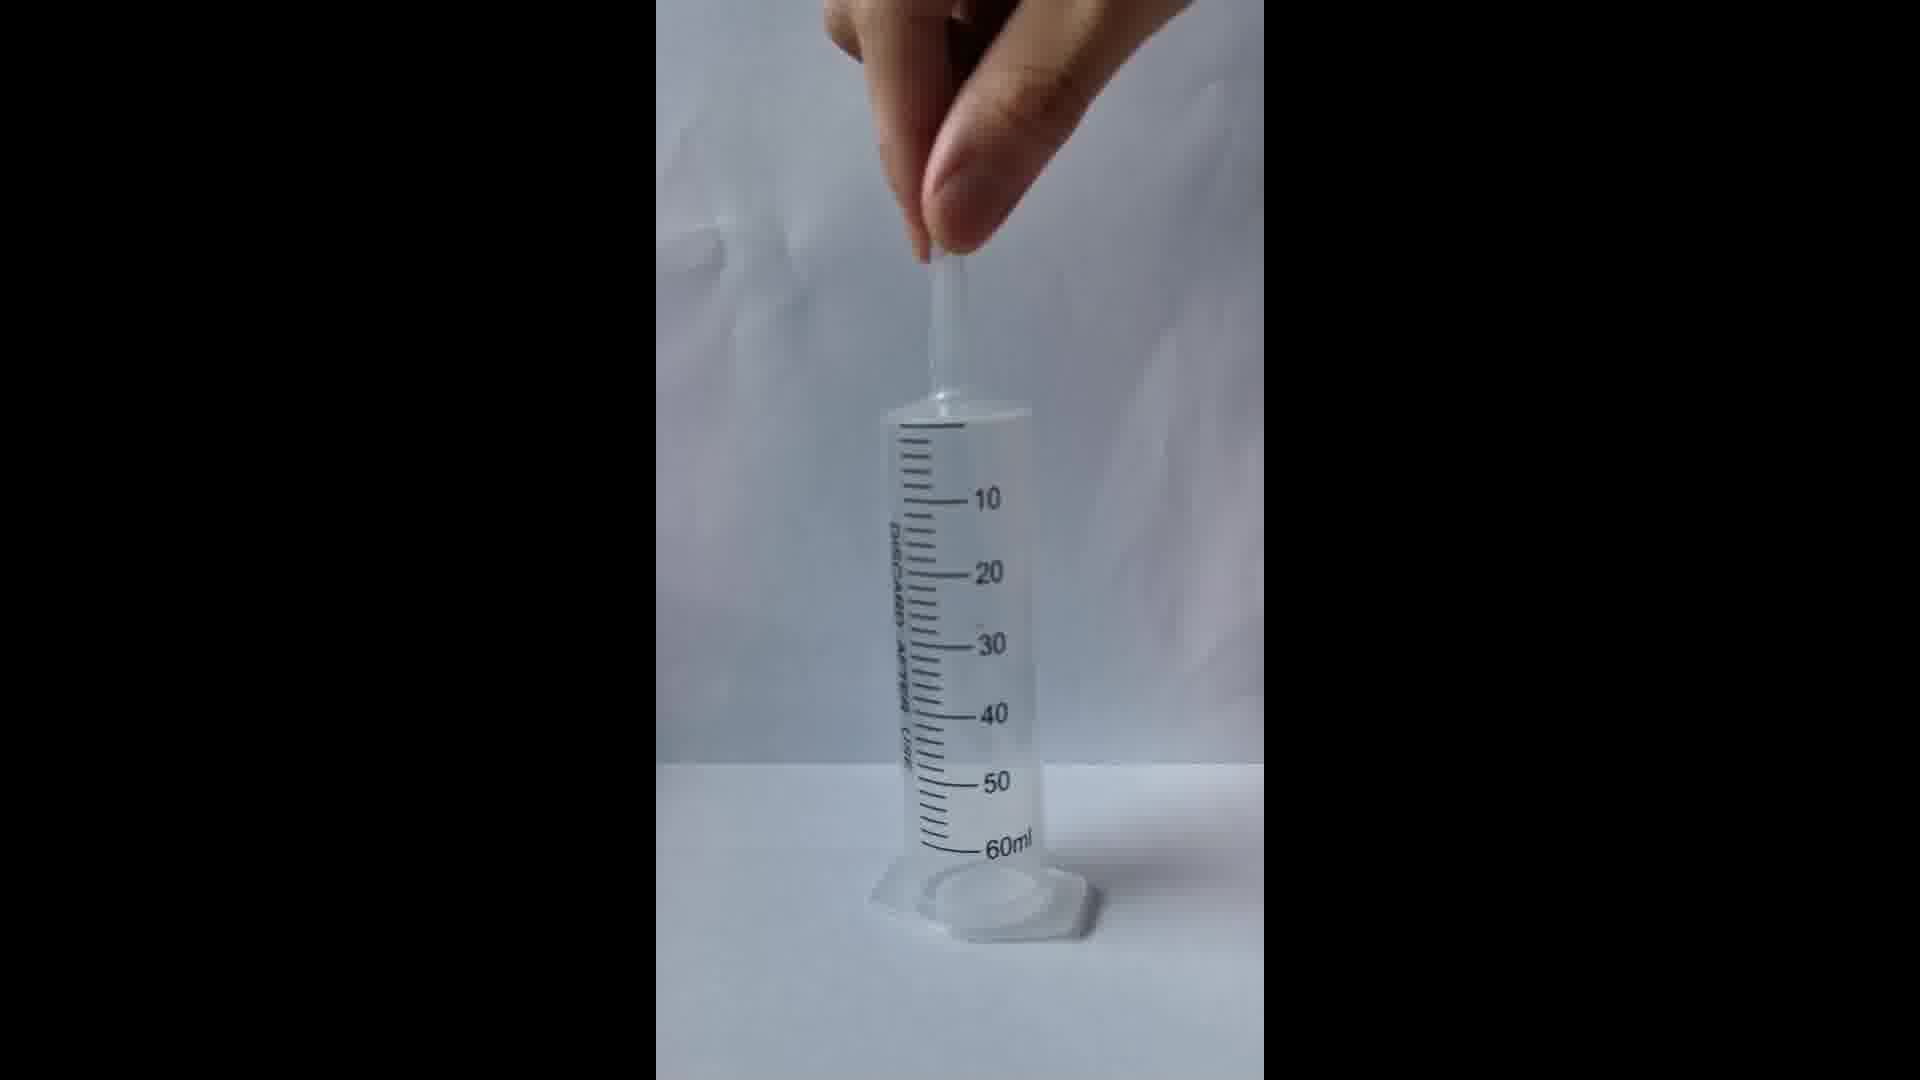syringe: (844, 264, 1116, 957)
